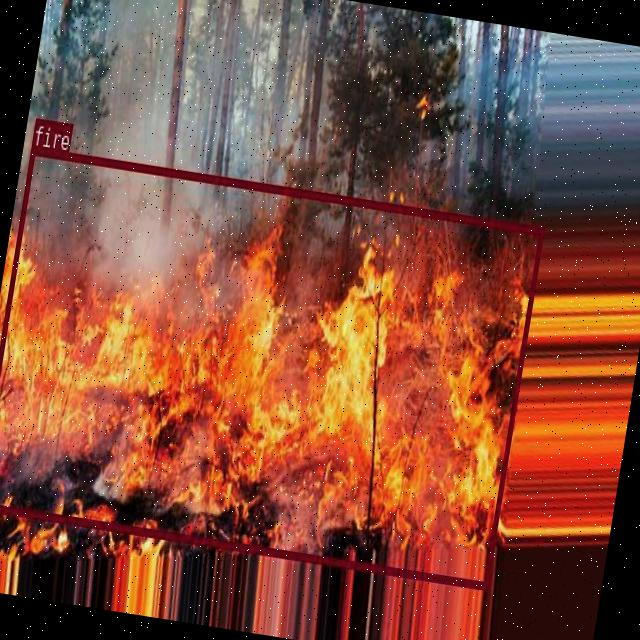fire: (0, 146, 544, 589)
